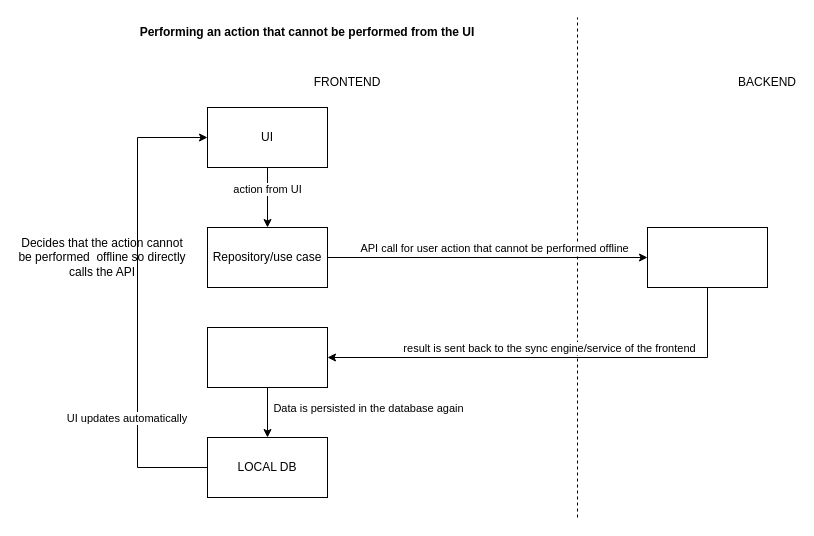
This 814x536 diagram has some shape labels left out. Each missing label, with the centre of its shape:
"API" belongs at point (707, 257).
"SYNC ENGINE/SERVICE" belongs at point (267, 357).
